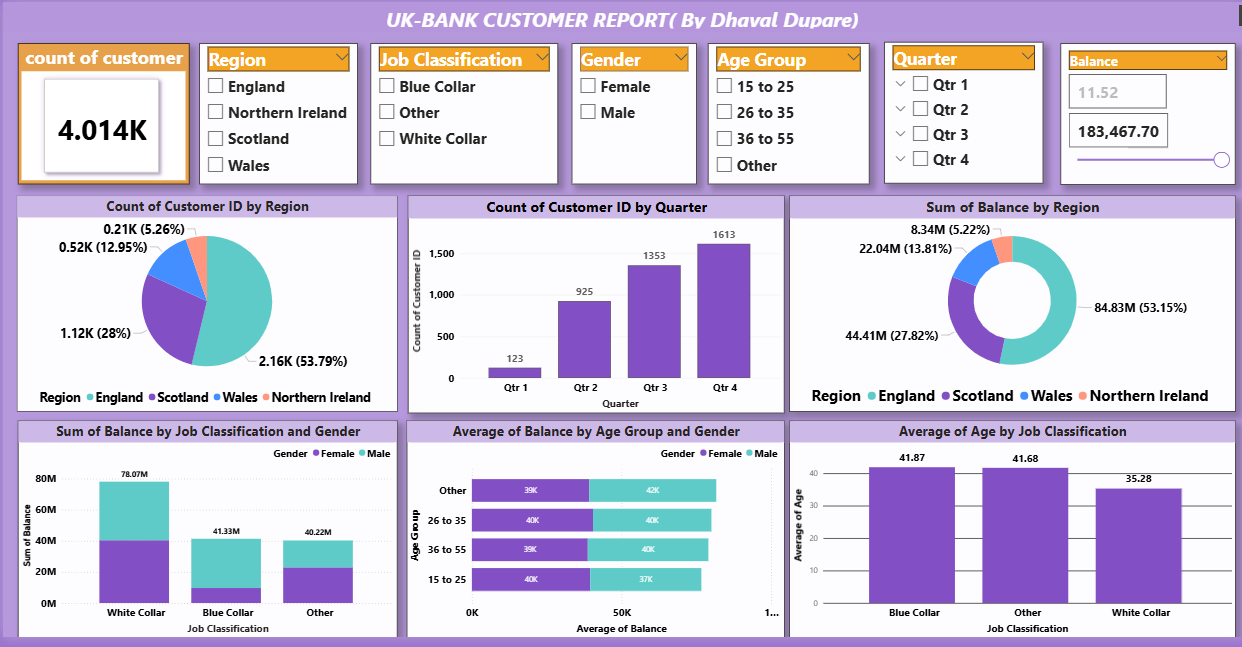

What the dashboard file says about the page in this screenshot:
{"tool":"powerbi","page":{"name":"Page 1","canvas":[1990,1016],"ordinal":0},"visuals":[{"type":"cardVisual","title":"count of customer","fields":{"Data":["CountNonNull(P6-UK-Bank-Customers (1).Customer ID)"]},"box":[23.3,65.1,274.4,225.6],"z":0},{"type":"slicer","fields":{"Values":["P6-UK-Bank-Customers (1).Age Group"]},"box":[1127.9,65.1,258.1,225.6],"z":1000},{"type":"slicer","fields":{"Values":["P6-UK-Bank-Customers (1).Balance"]},"box":[1692,66,280,226],"z":2000},{"type":"slicer","fields":{"Values":["P6-UK-Bank-Customers (1).Job Classification"]},"box":[588.4,65.1,300,225.6],"z":3000},{"type":"slicer","fields":{"Values":["P6-UK-Bank-Customers (1).Region"]},"box":[314,65.1,253.5,225.6],"z":4000},{"type":"slicer","fields":{"Values":["P6-UK-Bank-Customers (1).Gender"]},"box":[909.3,65.1,200,225.6],"z":5000},{"type":"slicer","fields":{"Values":["P6-UK-Bank-Customers (1).Date Joined.Variation.Date Hierarchy.Quarter","P6-UK-Bank-Customers (1).Date Joined.Variation.Date Hierarchy.Month","P6-UK-Bank-Customers (1).Date Joined.Variation.Date Hierarchy.Day"]},"box":[1409.5,64.3,254.8,226.2],"z":6000},{"type":"pieChart","fields":{"Category":["P6-UK-Bank-Customers (1).Region"],"Y":["CountNonNull(P6-UK-Bank-Customers (1).Customer ID)"]},"box":[21.4,309.5,609.5,345.2],"z":7000},{"type":"columnChart","fields":{"Y":["CountNonNull(P6-UK-Bank-Customers (1).Customer ID)"],"Category":["P6-UK-Bank-Customers (1).Date Joined.Variation.Date Hierarchy.Quarter","P6-UK-Bank-Customers (1).Date Joined.Variation.Date Hierarchy.Month","P6-UK-Bank-Customers (1).Date Joined.Variation.Date Hierarchy.Day"]},"box":[647.6,309.5,602.4,347.6],"z":8000},{"type":"donutChart","fields":{"Category":["P6-UK-Bank-Customers (1).Region"],"Y":["Sum(P6-UK-Bank-Customers (1).Balance)"]},"box":[1257.1,309.5,714.3,345.2],"z":9000},{"type":"columnChart","fields":{"Category":["P6-UK-Bank-Customers (1).Job Classification"],"Y":["Sum(P6-UK-Bank-Customers (1).Balance)"],"Series":["P6-UK-Bank-Customers (1).Gender"]},"box":[23.8,669,607.1,347.6],"z":10000},{"type":"barChart","fields":{"Y":["Avg(P6-UK-Bank-Customers (1).Balance)"],"Category":["P6-UK-Bank-Customers (1).Age Group"],"Series":["P6-UK-Bank-Customers (1).Gender"]},"box":[645.2,669,604.8,347.6],"z":11000},{"type":"columnChart","fields":{"Category":["P6-UK-Bank-Customers (1).Job Classification"],"Y":["Avg(P6-UK-Bank-Customers (1).Age)"]},"box":[1257.1,669,714.3,347.6],"z":12000},{"type":"textbox","box":[0,0,1990.5,47.6],"z":13000}]}

Visuals, with their boxes in screenshot pixels (x1, y1, x2, y2), scaled from the page's 1990x1016 canvas onto the 1242x647 screenshot:
"count of customer" cardVisual: select_region(15, 41, 186, 185)
slicer - P6-UK-Bank-Customers (1).Age Group: select_region(704, 41, 865, 185)
slicer - P6-UK-Bank-Customers (1).Balance: select_region(1056, 42, 1231, 186)
slicer - P6-UK-Bank-Customers (1).Job Classification: select_region(367, 41, 554, 185)
slicer - P6-UK-Bank-Customers (1).Region: select_region(196, 41, 354, 185)
slicer - P6-UK-Bank-Customers (1).Gender: select_region(568, 41, 692, 185)
slicer - P6-UK-Bank-Customers (1).Date Joined.Variation.Date Hierarchy.Quarter x P6-UK-Bank-Customers (1).Date Joined.Variation.Date Hierarchy.Month: select_region(880, 41, 1039, 185)
pieChart - P6-UK-Bank-Customers (1).Region x CountNonNull(P6-UK-Bank-Customers (1).Customer ID): select_region(13, 197, 394, 417)
columnChart - CountNonNull(P6-UK-Bank-Customers (1).Customer ID) x P6-UK-Bank-Customers (1).Date Joined.Variation.Date Hierarchy.Quarter: select_region(404, 197, 780, 418)
donutChart - P6-UK-Bank-Customers (1).Region x Sum(P6-UK-Bank-Customers (1).Balance): select_region(785, 197, 1230, 417)
columnChart - P6-UK-Bank-Customers (1).Job Classification x Sum(P6-UK-Bank-Customers (1).Balance): select_region(15, 426, 394, 646)
barChart - Avg(P6-UK-Bank-Customers (1).Balance) x P6-UK-Bank-Customers (1).Age Group: select_region(403, 426, 780, 646)
columnChart - P6-UK-Bank-Customers (1).Job Classification x Avg(P6-UK-Bank-Customers (1).Age): select_region(785, 426, 1230, 646)
textbox: select_region(0, 0, 1241, 30)
